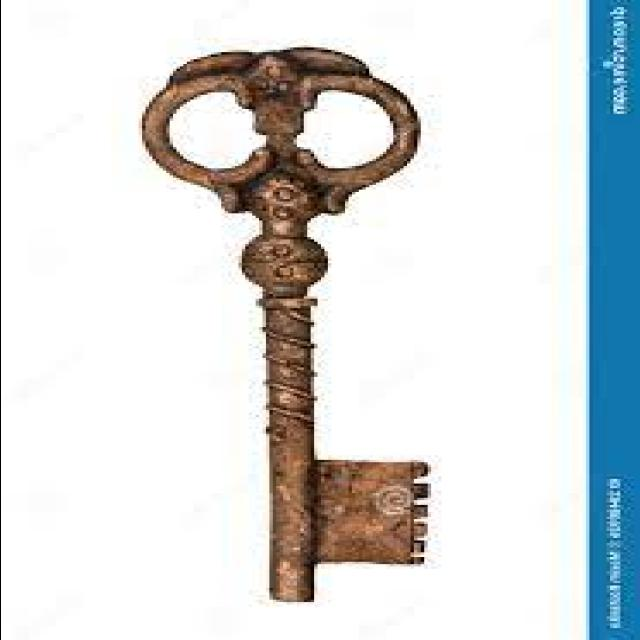key: (134, 29, 446, 606)
